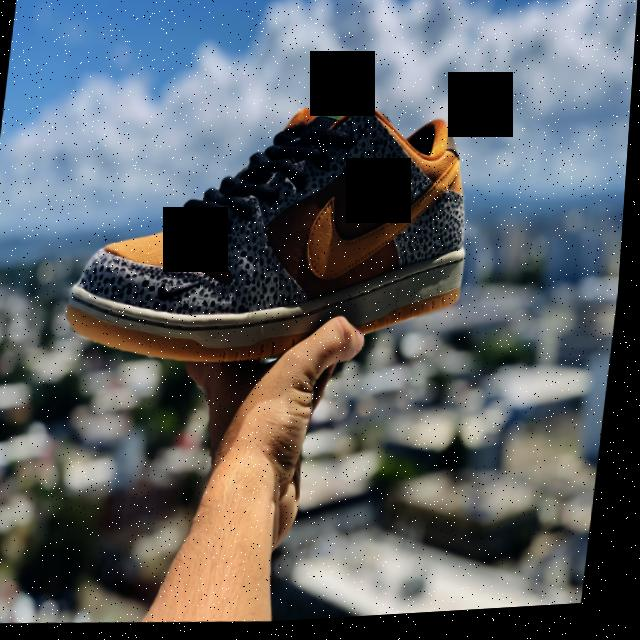shoe: (56, 73, 498, 401)
